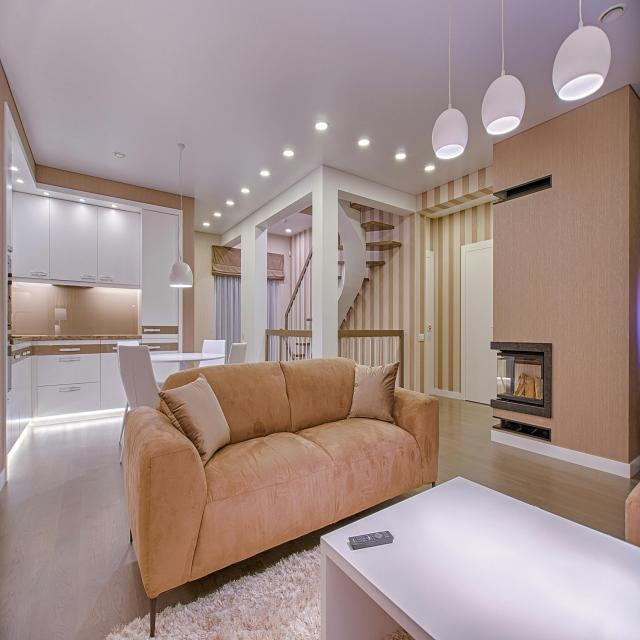sofa: (122, 354, 440, 636)
